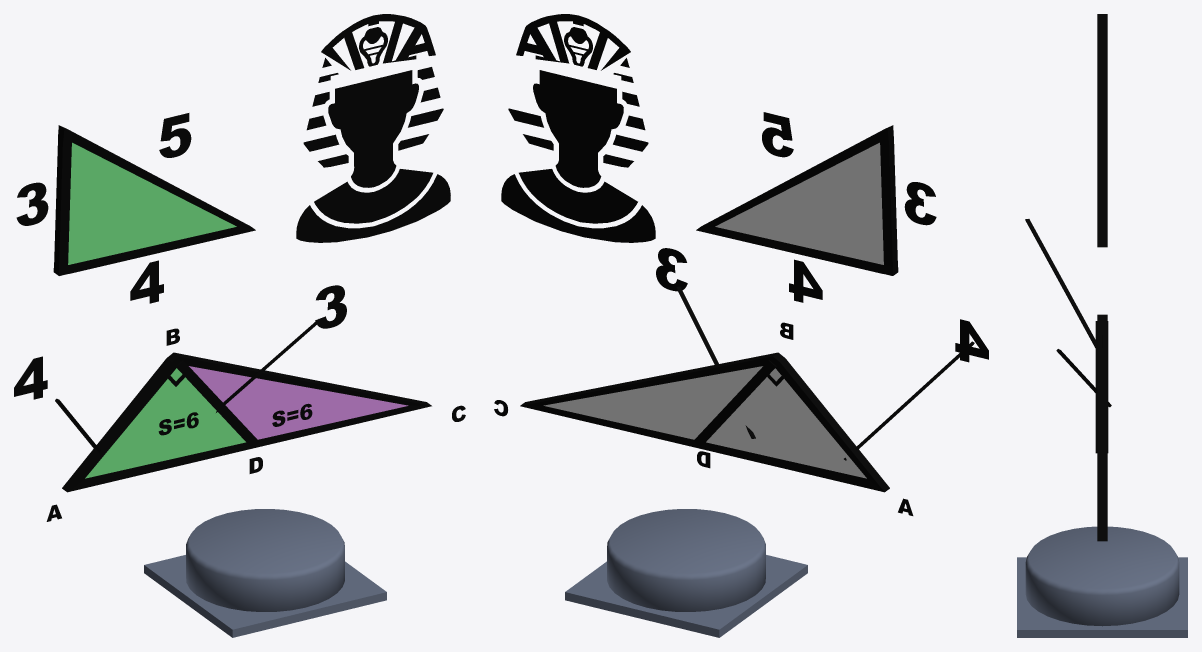
3 renders of one model, left to right at view 1: azimuth 30°, elevation 25°; view 2: azimuth 150°, elevation 25°; view 3: azimuth 270°, elevation 25°, orthographic. The views are drawn at different scales.
Visible parts, largest first — view 1: Cube.006, Curve.001, Cube.007, Cylinder, Cube, Cube.001, Text.013, Text.010, Text.012, Text.011, Text.009; view 2: Cube.006, Curve.001, Cube.007, Cylinder, Cube, Cube.001, Text.013, Text.010, Text.012, Text.011, Text.009; view 3: Cylinder, Cube, Cube.007, Cube.006, Cube.005, Cube.001, Cube.004.
Part boxes in pixels (box(x1,y1,x2,y2)): Cube.006: box(62, 352, 431, 492); Curve.001: box(296, 14, 450, 242); Cube.007: box(53, 125, 255, 275); Cylinder: box(186, 509, 344, 611); Cube: box(144, 555, 386, 637); Cube.001: box(175, 360, 259, 447); Text.013: box(159, 113, 191, 157); Text.010: box(14, 356, 47, 399); Text.012: box(130, 260, 163, 303); Text.011: box(16, 182, 48, 225); Text.009: box(315, 285, 346, 328); Cube.006: box(520, 352, 889, 492); Curve.001: box(501, 14, 655, 242); Cube.007: box(696, 125, 898, 275); Cylinder: box(607, 509, 765, 611); Cube: box(565, 555, 807, 637); Cube.001: box(693, 360, 776, 447); Text.013: box(762, 112, 793, 157); Text.010: box(955, 319, 988, 362); Text.012: box(789, 259, 822, 302); Text.011: box(904, 182, 936, 225); Text.009: box(656, 248, 687, 291); Cylinder: box(1025, 526, 1179, 626); Cube: box(1017, 557, 1187, 637); Cube.007: box(1097, 14, 1107, 247); Cube.006: box(1097, 314, 1107, 541); Cube.005: box(1025, 219, 1095, 347); Cube.001: box(1095, 321, 1108, 453); Cube.004: box(1056, 349, 1111, 407).
Size of the model in its own units: 28.06 by 30.87 by 9.09.
